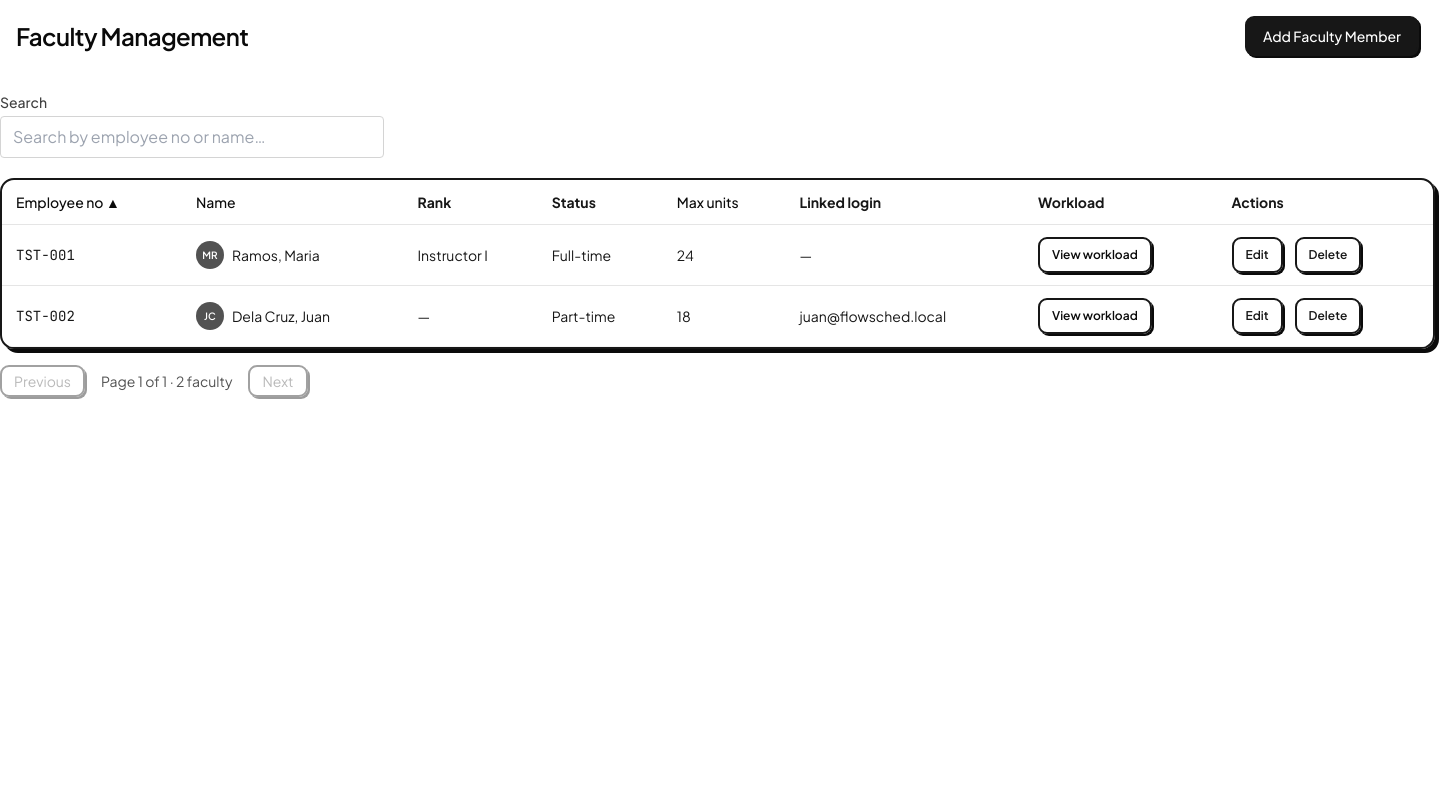
Test: FacultyPage — delete › requires an explicit checkbox confirmation before deleting a faculty member with an active login
Click the button "Delete" in the row of "TST-002" at (1328, 316), box [1295,298,1361,334]
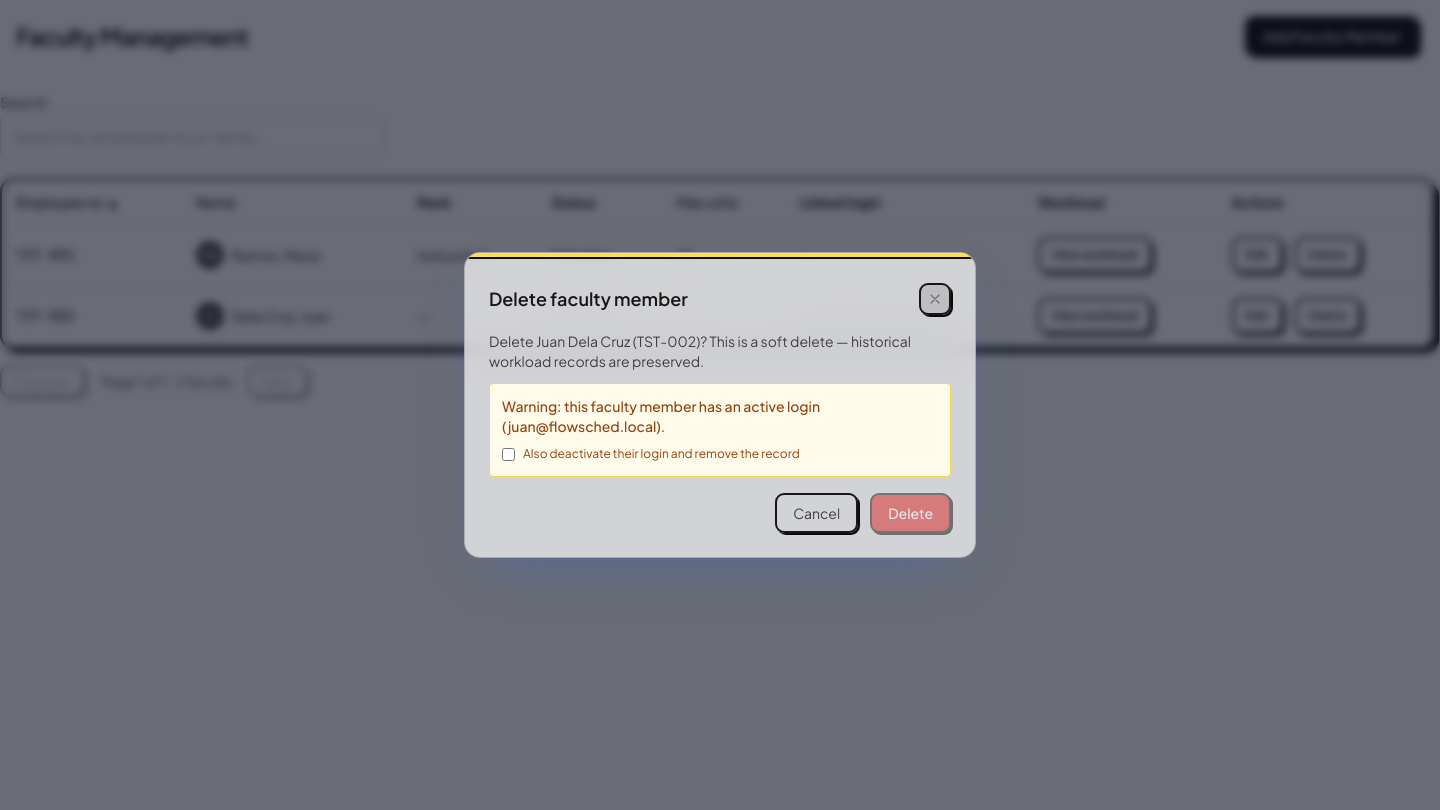
Result: the dialog shows "Warning: this faculty member has an active login (juan@flowsched.local)." at [464,252,976,558]
Result: the button "Delete" is disabled at [870,493,951,533]
Click the checkbox at (508, 454), box [502,448,515,461]
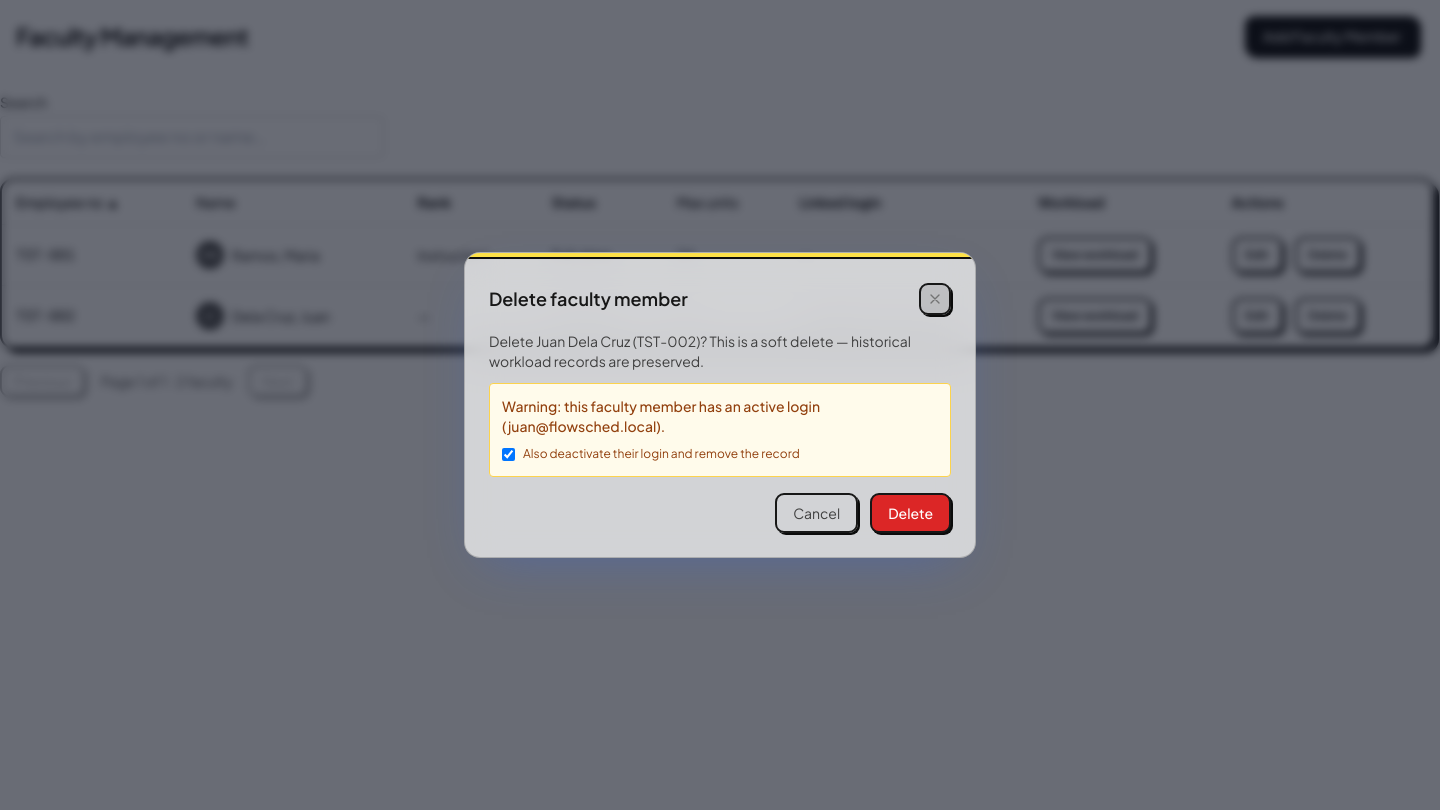
Result: the button "Delete" is enabled
Click the button "Delete" at (911, 513), box [870,493,951,533]
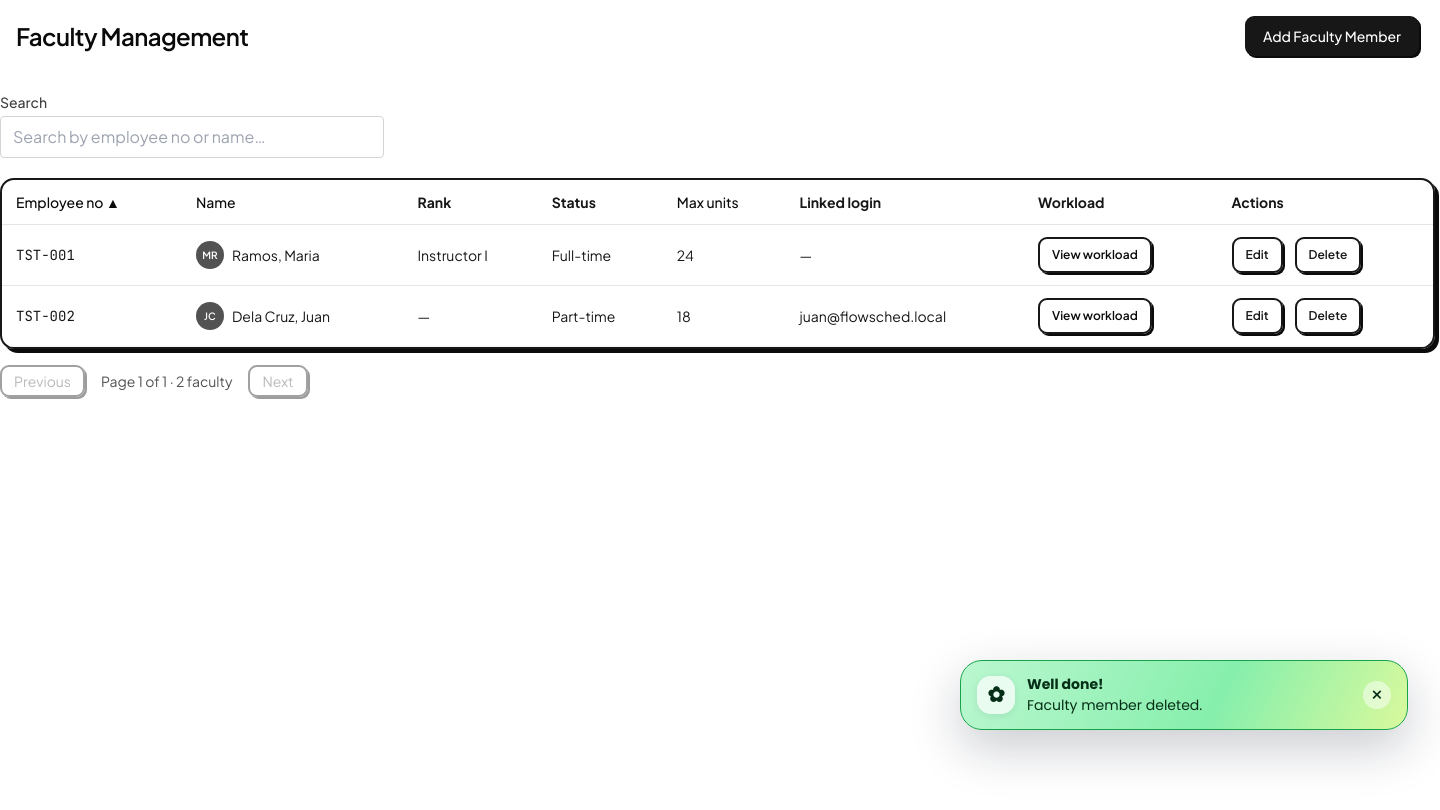
Result: the text "Faculty member deleted." is shown at [1027,695,1202,715]
